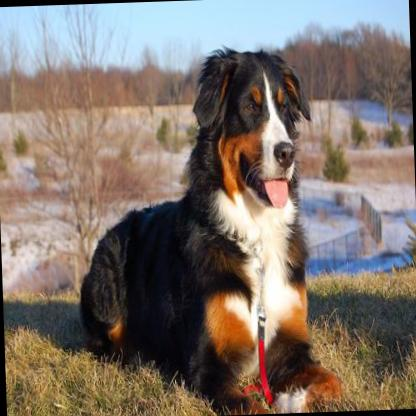Bernese_mountain_dog: (68, 43, 344, 416)
